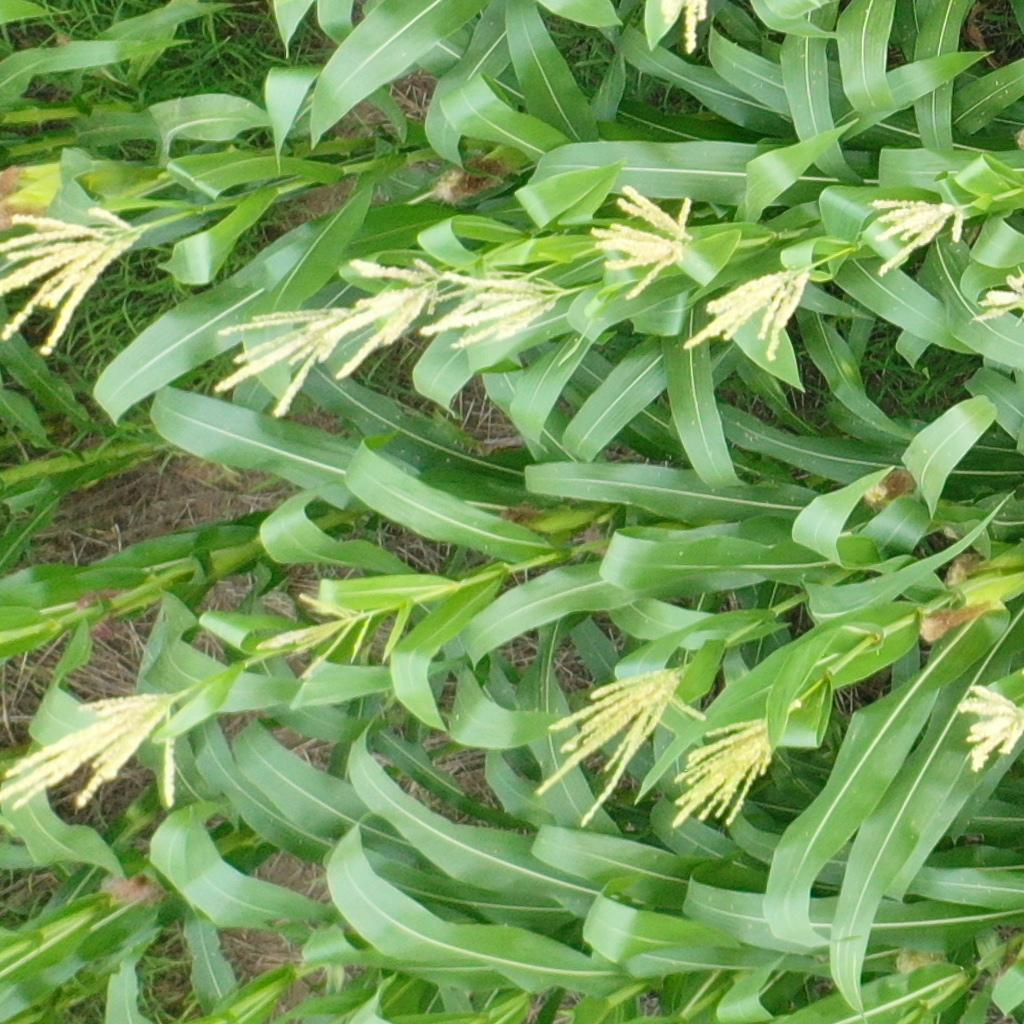Tassel: (535, 673, 706, 827), (1, 688, 193, 820), (1, 205, 146, 359), (315, 257, 441, 382), (211, 307, 352, 417), (667, 718, 789, 831), (684, 268, 813, 374), (588, 182, 695, 304), (423, 264, 566, 355), (253, 591, 375, 684), (870, 195, 969, 277), (956, 682, 1024, 774), (969, 265, 1024, 329), (659, 1, 711, 57)
